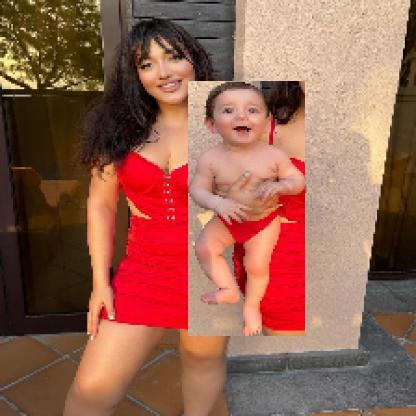child: (189, 82, 308, 338)
